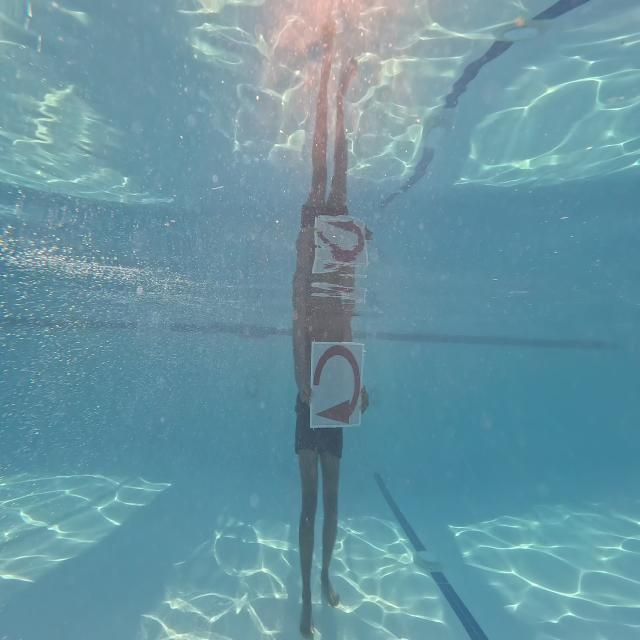red_side: (309, 341, 362, 428)
